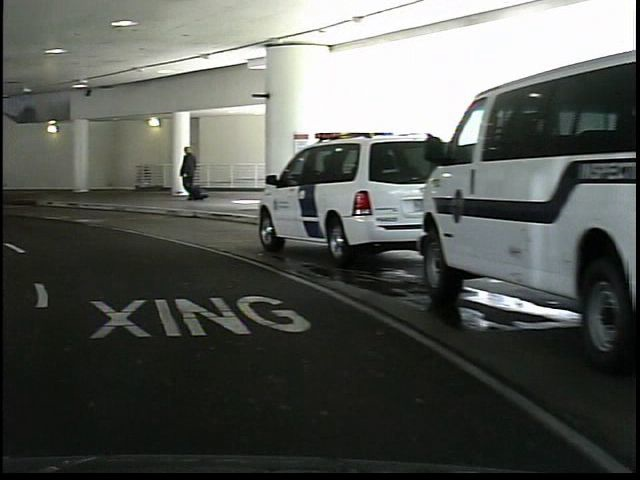person: (174, 145, 198, 205)
